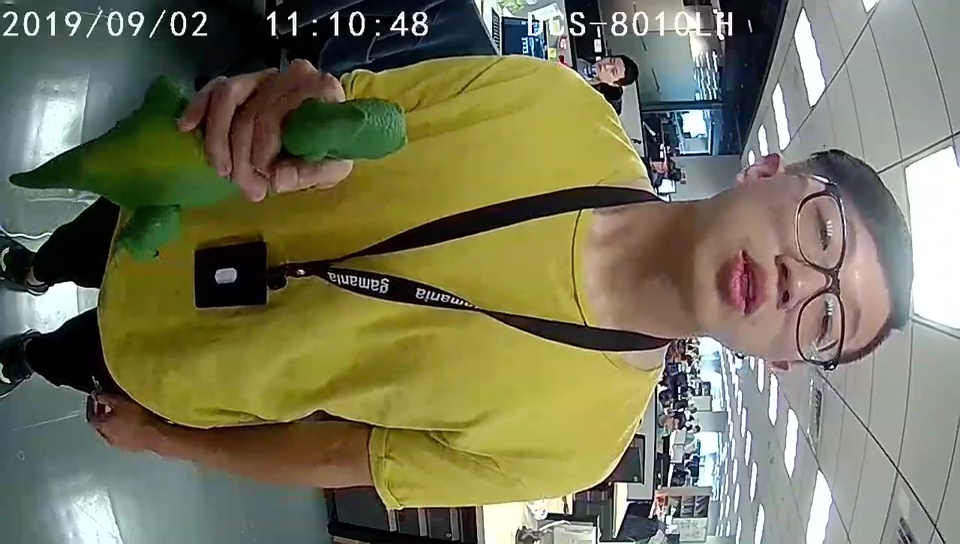rex: (113, 94, 408, 264)
